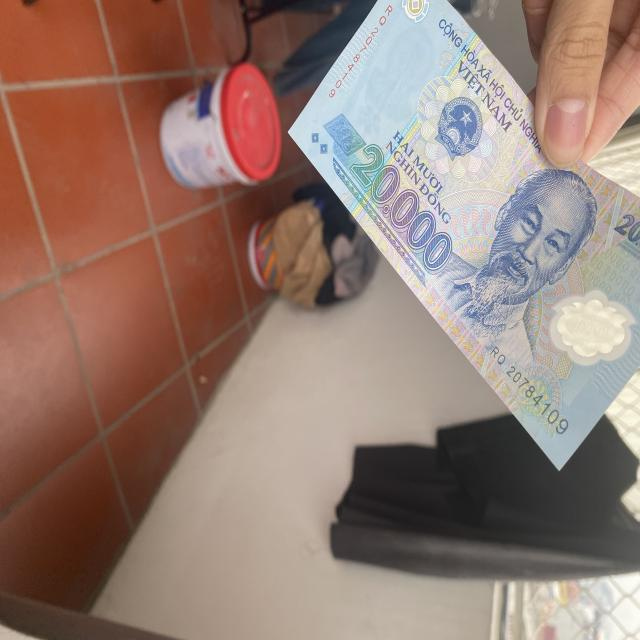20 000 VND: (287, 0, 640, 473)
